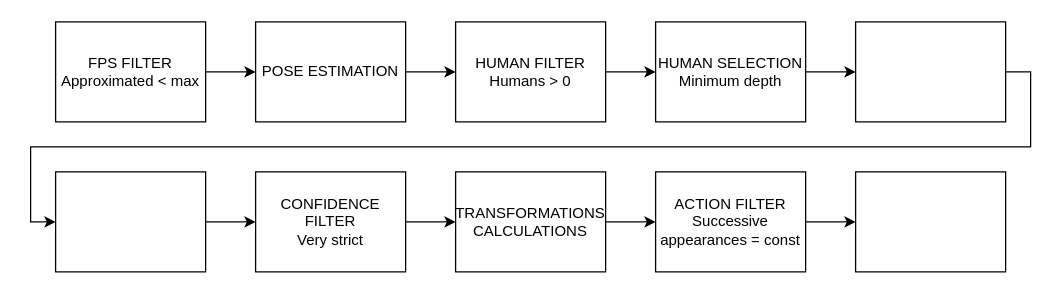
Image size: 1063x294. Some labels were removed from this diagram. The centre of each missing label's shape, as x and y in pixels:
ACTION CALLS: (x=930, y=221)
CLASSIFIER EfficientNetB0: (x=130, y=221)
DEPTH FILTER 1m < Depth < 7m: (x=930, y=71)
